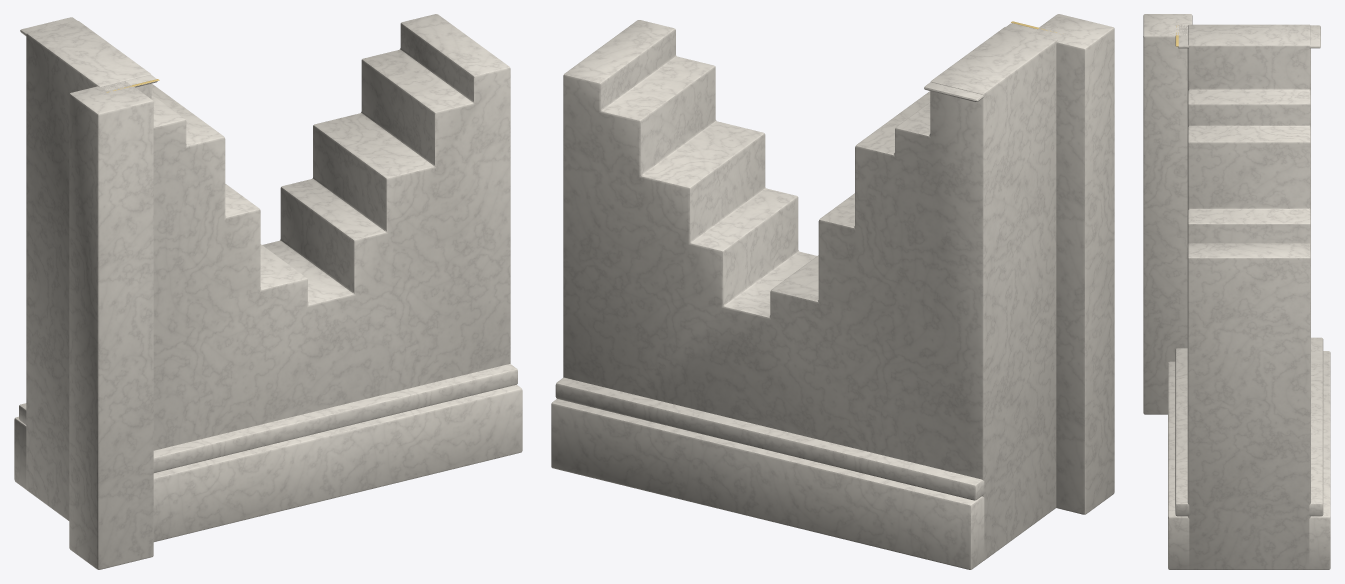
File: HolyWall_BrokenB.fbx
The picture shows the model from 3 angles, left to right: view 1: azimuth 30°, elevation 25°; view 2: azimuth 150°, elevation 25°; view 3: azimuth 270°, elevation 25°; orthographic projection. The views are drawn at different scales.
Visible parts, largest first — view 1: HolyWall_BrokenB; view 2: HolyWall_BrokenB; view 3: HolyWall_BrokenB.
Boxes of the visible parts, x1,y1,x2,y2 form: HolyWall_BrokenB: [14, 14, 522, 569]; HolyWall_BrokenB: [551, 14, 1114, 569]; HolyWall_BrokenB: [1143, 14, 1330, 569].
Size of the model in its own units: 8.55 by 8.5 by 3.8.
